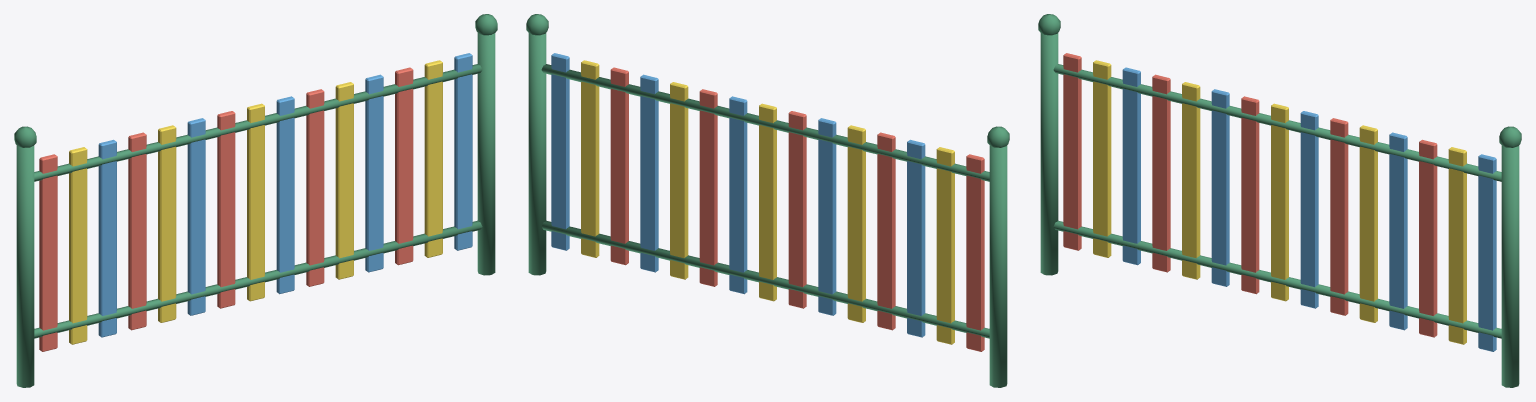
The model's file is play_fence.glb.
3 views of the same model, side by side, from view 1: azimuth 30°, elevation 25°; view 2: azimuth 150°, elevation 25°; view 3: azimuth 330°, elevation 25° (orthographic).
Parts seen in each view (by area): view 1: play_fence; view 2: play_fence; view 3: play_fence.
Boxes of the visible parts, x1,y1,x2,y2 form: play_fence: [14, 14, 497, 387]; play_fence: [526, 14, 1009, 387]; play_fence: [1038, 14, 1521, 387].
Bounding box in the file's own units: 2.09 × 1.06 × 0.0858.
